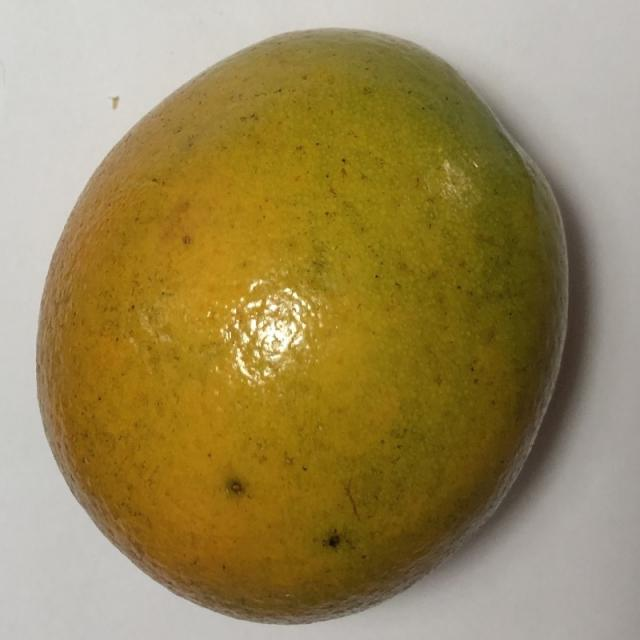blackspot: (26, 18, 595, 627)
